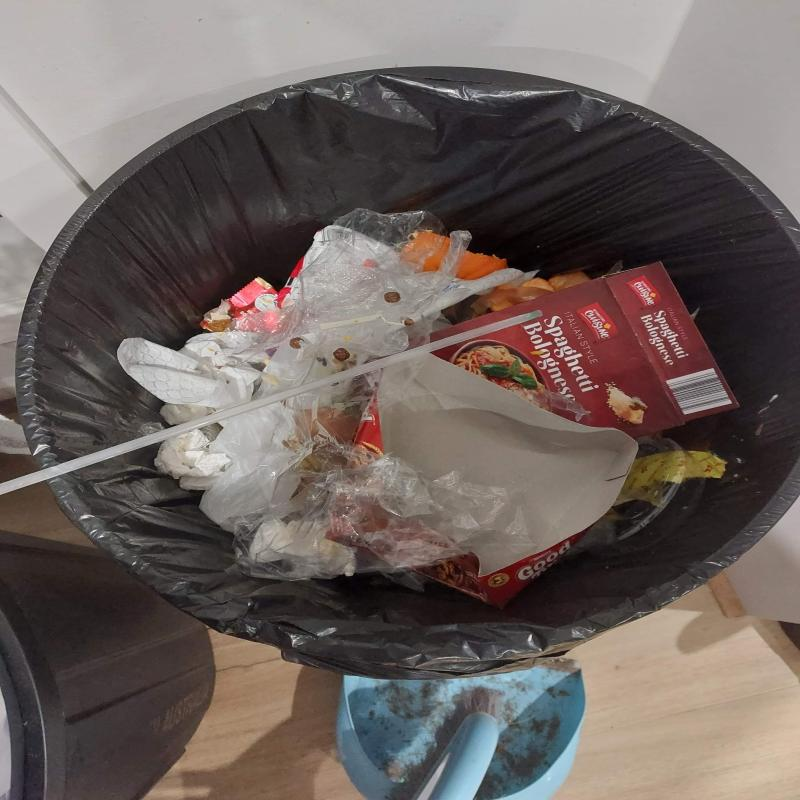cardboard: (353, 352, 639, 606), (430, 262, 741, 439)
paper: (113, 333, 264, 412), (152, 430, 232, 479)
plastic bag: (229, 440, 534, 582), (221, 207, 471, 355), (182, 403, 310, 531)
plastic straw: (0, 308, 551, 495)
